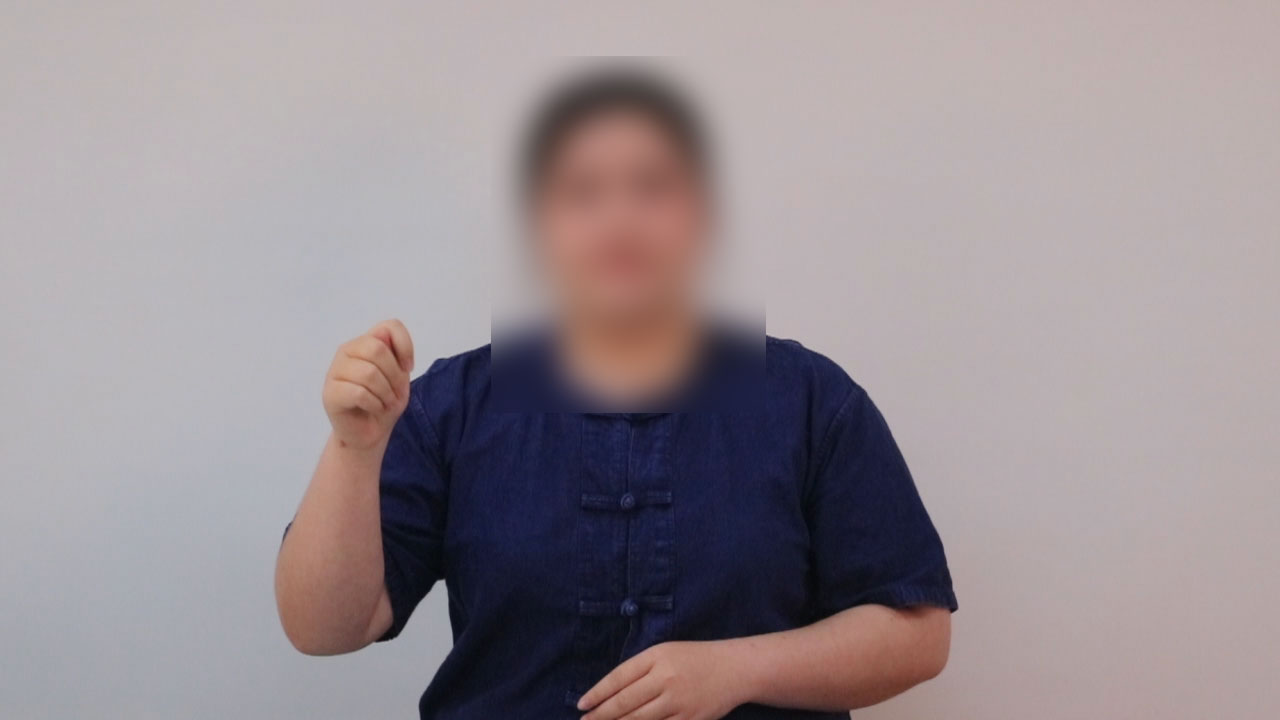tor: (301, 309, 439, 469)
